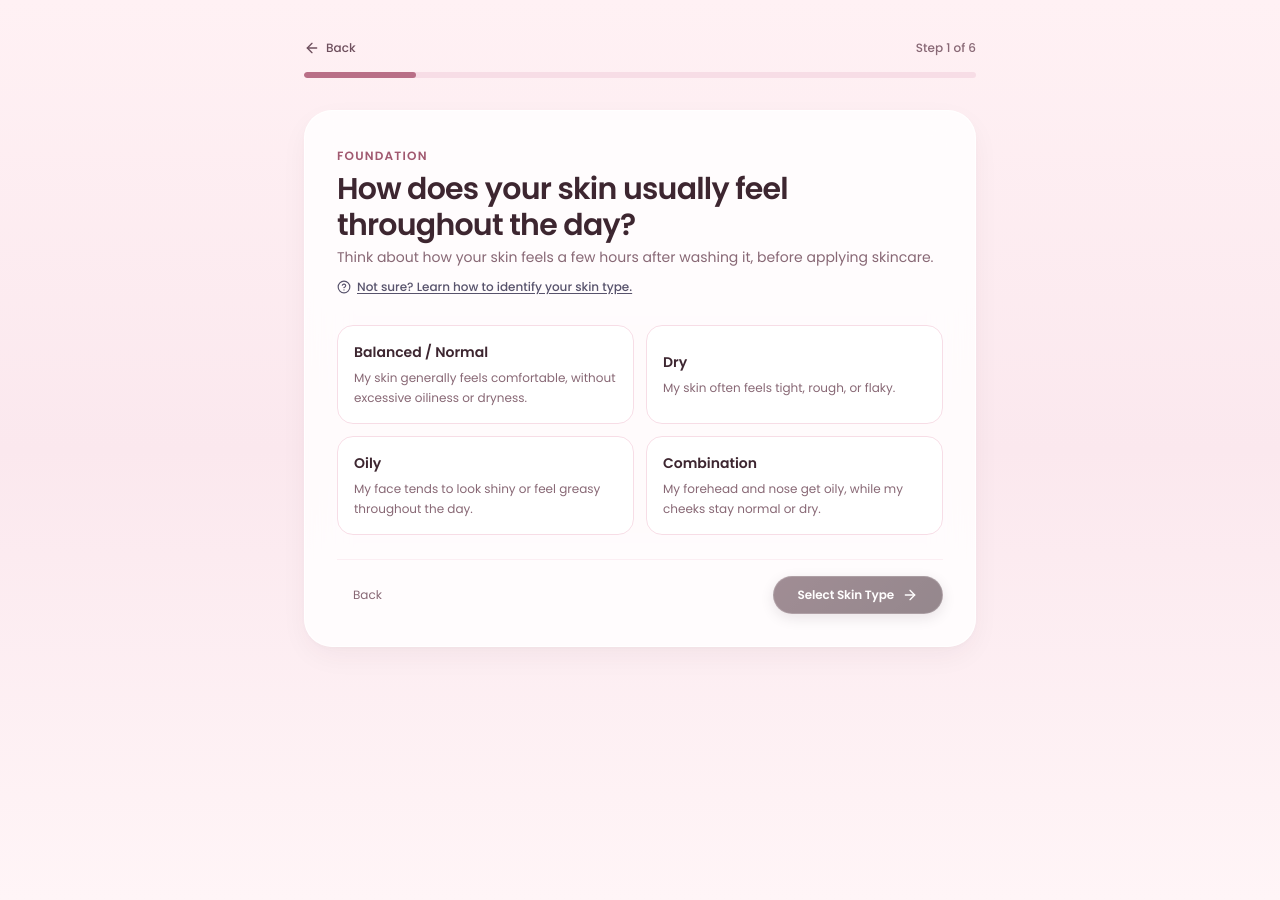
UI Components & Accessibility › renders updated skin feel question, user-friendly options, and modal explanation helper
Check: the heading "How does your skin usually feel throughout the day?" is shown, box [337, 168, 788, 246]
Check: the text "Think about how your skin feels a few hours after washing it, before applying skincare." is shown, box [337, 247, 934, 267]
// Click helper link opens modal without leaving the quiz
Click the button "Not sure? Learn how to identify your skin type." at (485, 287), box [337, 279, 632, 295]
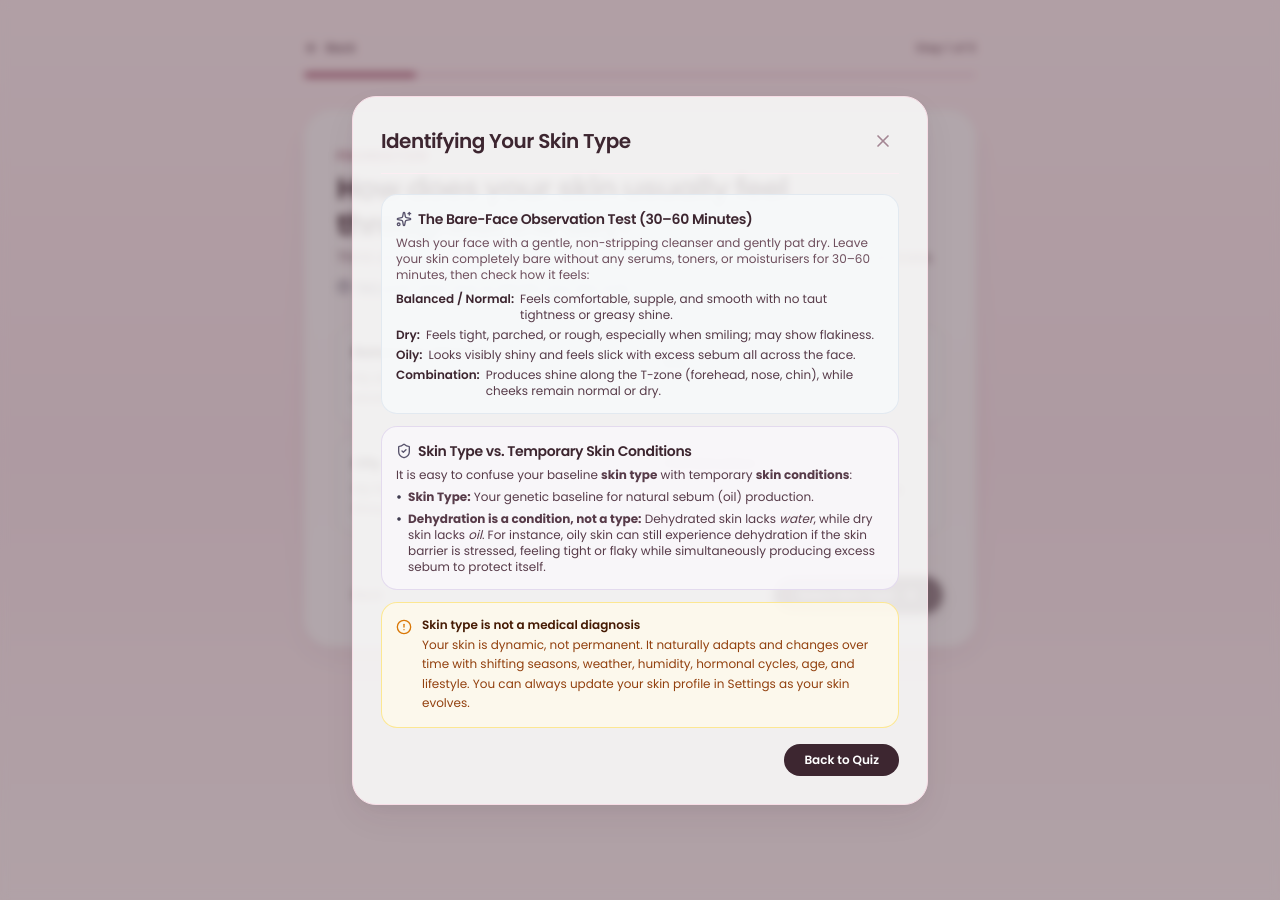
Check: the heading "Identifying Your Skin Type" is shown, box [381, 126, 631, 154]
Check: the heading "The Bare-Face Observation Test (30–60 Minutes)" is shown, box [396, 208, 753, 228]
Check: the text "Dehydration is a condition, not a type:" is shown, box [408, 510, 642, 526]
// Close modal via "Back to Quiz"
Click the button "Back to Quiz" at (842, 760), box [784, 744, 899, 776]
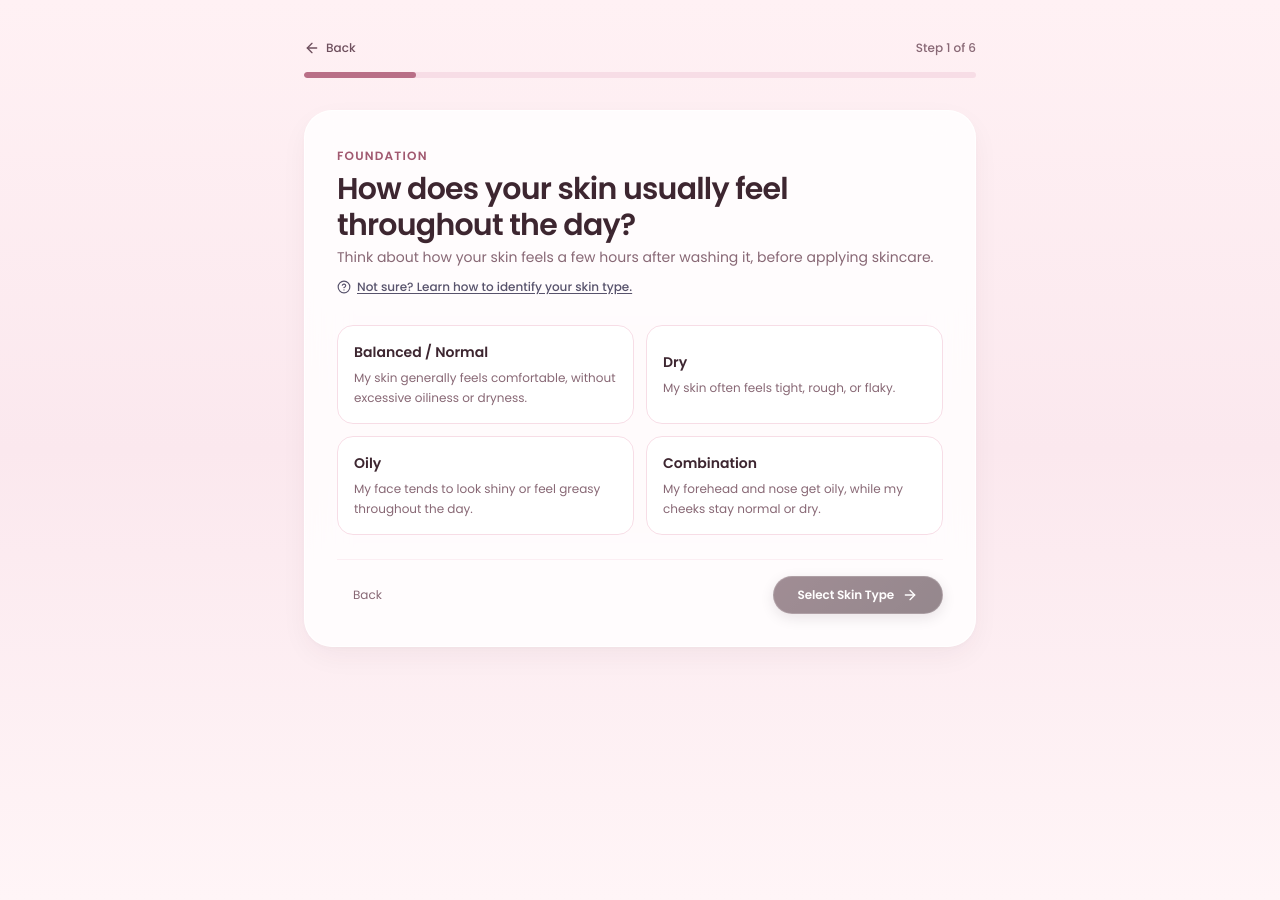
Check: the heading "How does your skin usually feel throughout the day?" is shown, box [337, 168, 788, 246]
Check: the heading "Identifying Your Skin Type" is gone
